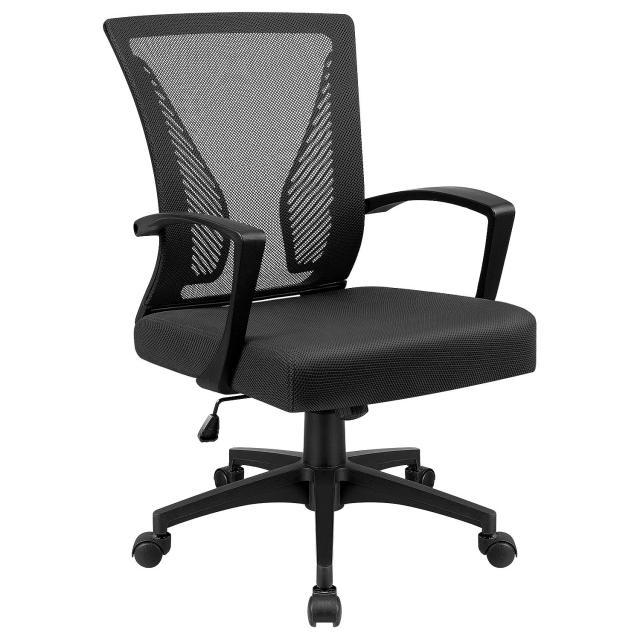chair: (68, 6, 546, 628)
